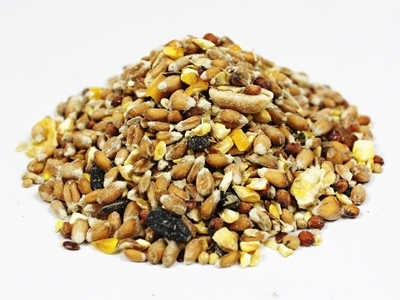seed: (7, 23, 391, 278)
